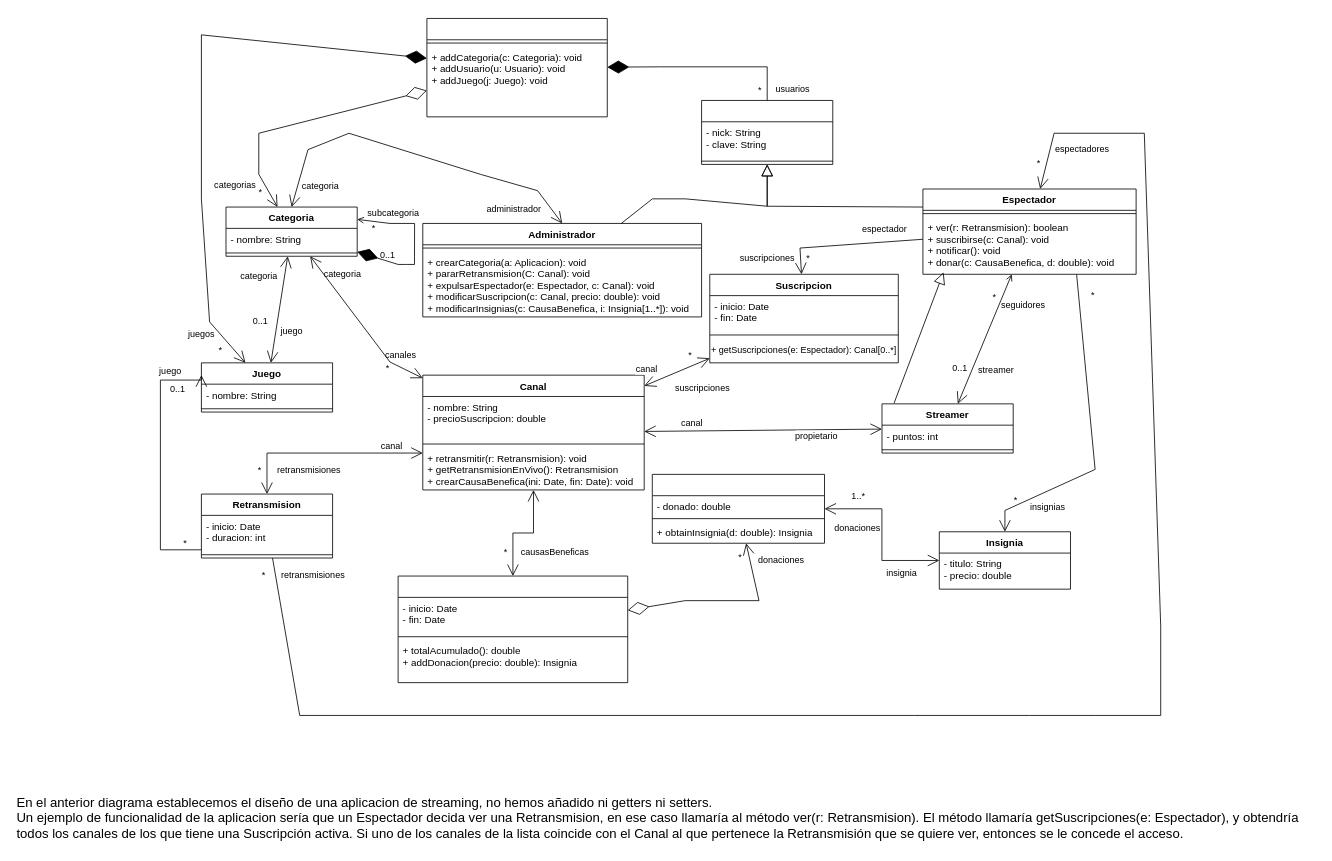
The diagram is 1332 pixels wide and 861 high, and some of its shapes have lost their labels. The shapes that lost their labels are listed below. From the top down, each one's box as (x1, y1, x2, y2) in pixels, then its label:
(426, 18, 607, 117): Aplicacion
(701, 100, 833, 164): Usuario
(651, 474, 825, 543): Donacion
(397, 575, 628, 683): CausaBenefica
